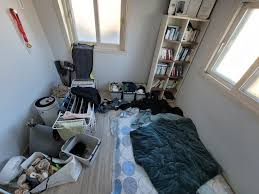Bed: (114, 112, 241, 194)
